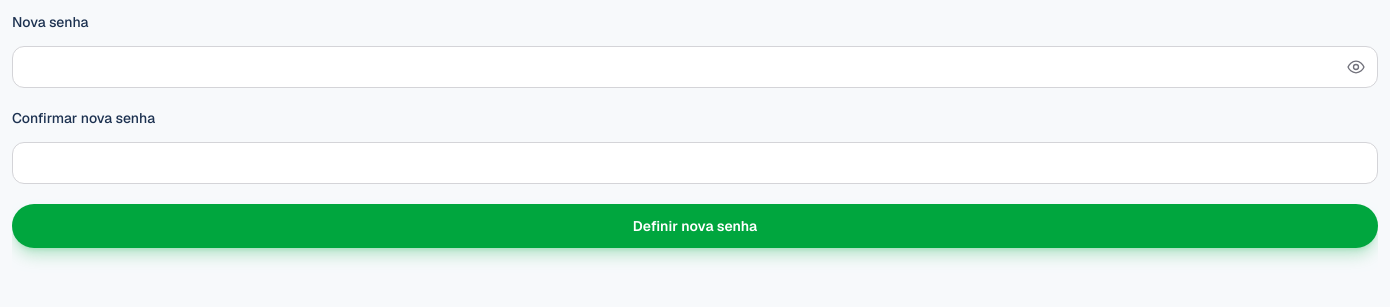
Test: PrimeiroAcessoForm › rejeita senhas diferentes
The image size is (1390, 307).
In the password field labelled "Nova senha": (695, 67) 12,46 -> 1378,88, type "senha123456"
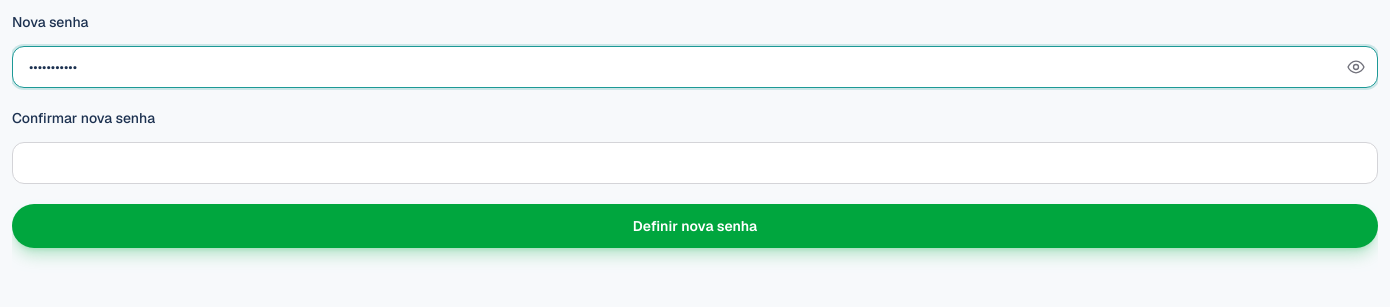
In the password field labelled "Confirmar nova senha": (695, 163) 12,142 -> 1378,184, type "outra123456"
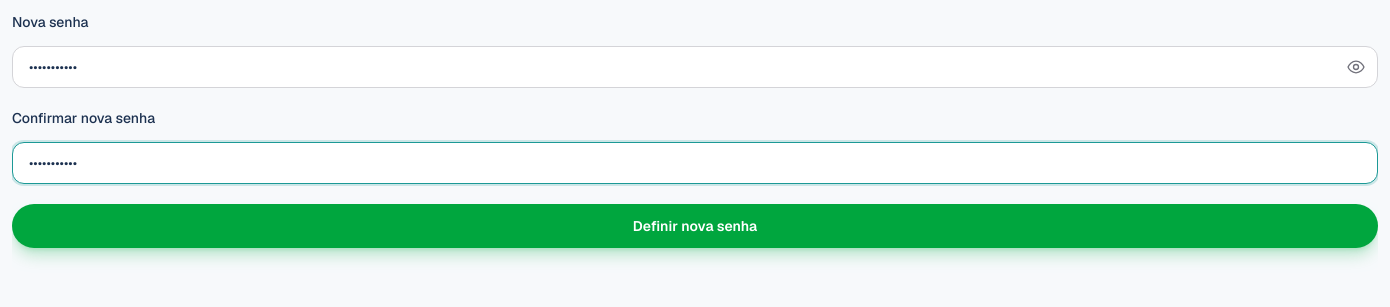
Click the button "Definir nova senha": (695, 226) 12,204 -> 1378,248
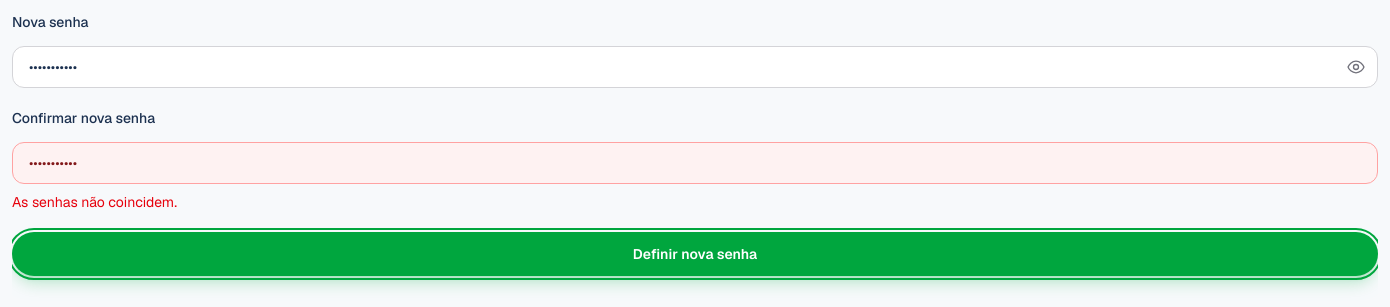
Result: the text "As senhas não coincidem." is shown at 12,193 -> 177,211
